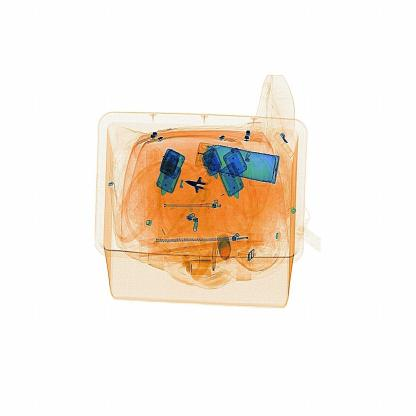gun: (179, 170, 219, 209)
